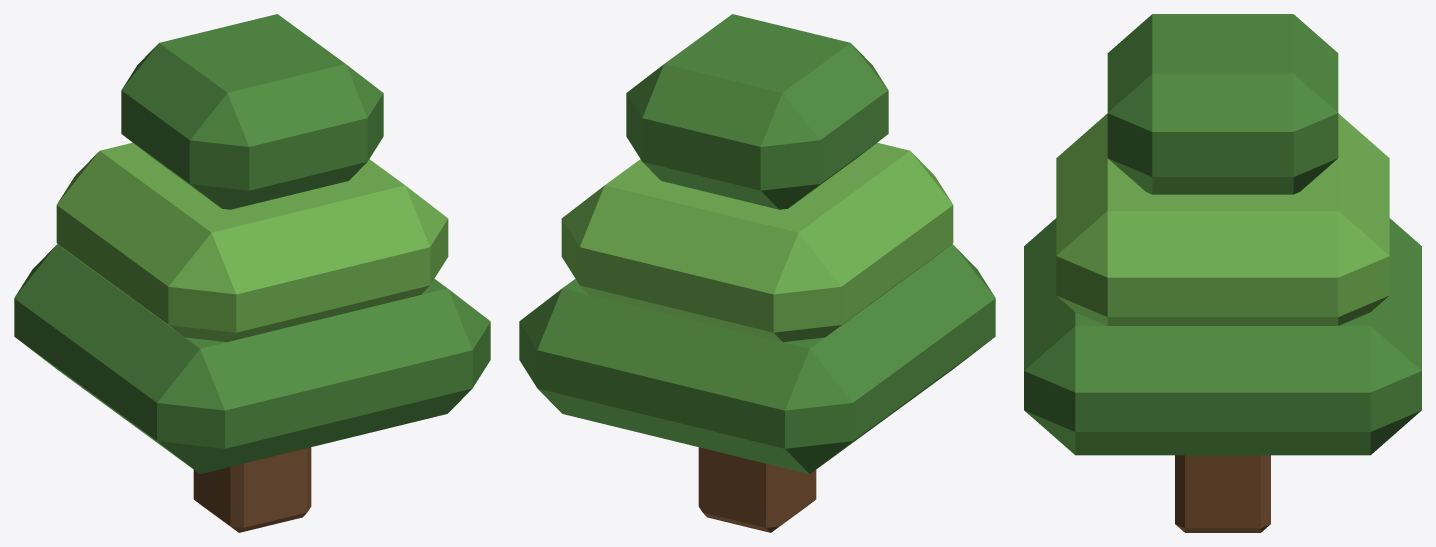
File: env_r1_tree_round.glb
3 renders of one model, left to right at view 1: azimuth 30°, elevation 25°; view 2: azimuth 150°, elevation 25°; view 3: azimuth 270°, elevation 25°, orthographic. The views are drawn at different scales.
Parts seen in each view (by area): view 1: env_r1_tree_round; view 2: env_r1_tree_round; view 3: env_r1_tree_round.
Part boxes in pixels (bbox=[...]): env_r1_tree_round: bbox=[14, 14, 490, 532]; env_r1_tree_round: bbox=[519, 14, 995, 532]; env_r1_tree_round: bbox=[1024, 14, 1421, 532].
Bounding box in the file's own units: 3.2 × 4.2 × 3.2.
Materials: 1 (1 with a texture image).
